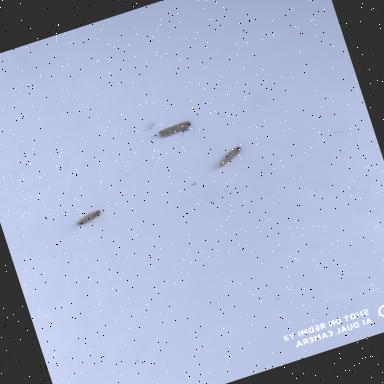pbw: (146, 112, 202, 147), (201, 138, 253, 174), (65, 201, 115, 234)
